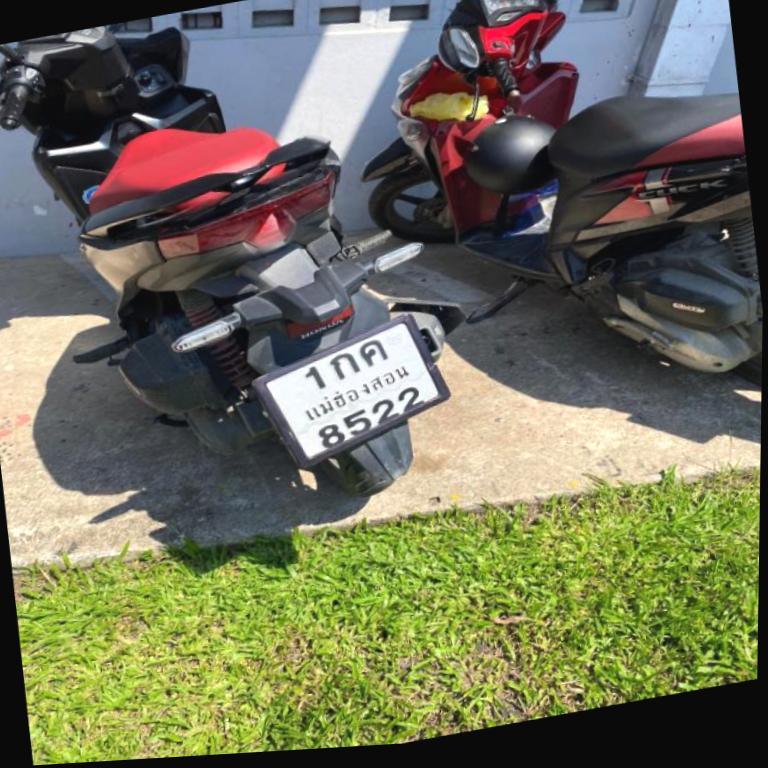license plate: (255, 314, 448, 465)
